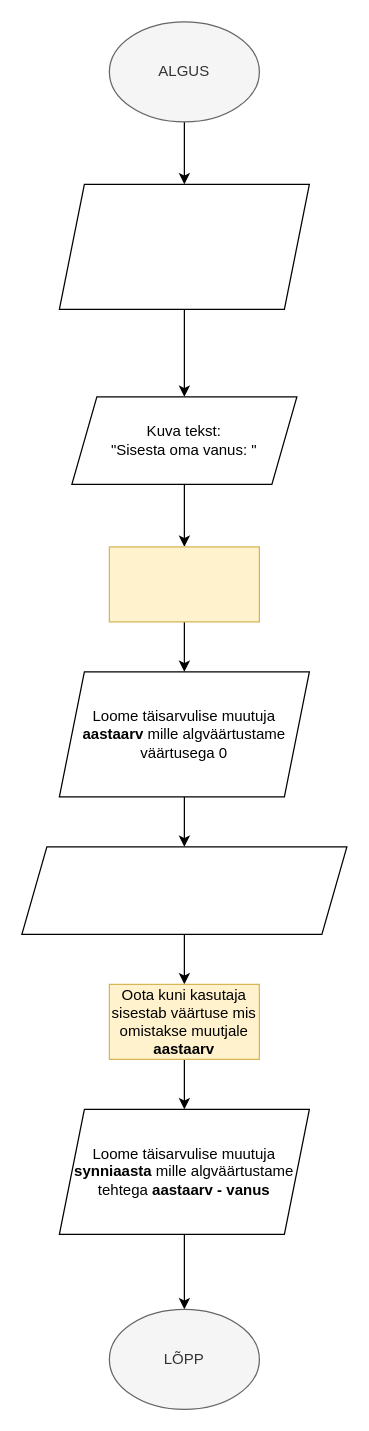
The diagram is 369 pixels wide and 1431 high, and some of its shapes have lost their labels. The box of each missing label's shape, as (x1, y1, x2, y2) in pixels:
Kuva tekst: "Sisesta käesolev kalendri aasta: ": (21, 846, 347, 934)
Loome täisarvulise muutuja vanus mille algväärtustame väärtusega 0: (58, 183, 309, 309)
Oota kuni kasutaja sisestab väärtuse mis omistakse muutjale vanus: (108, 546, 259, 622)
